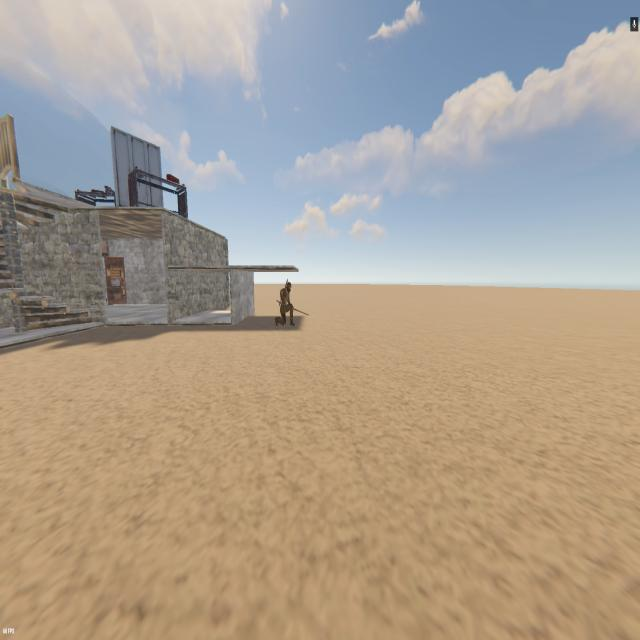Player: (275, 278, 296, 332)
